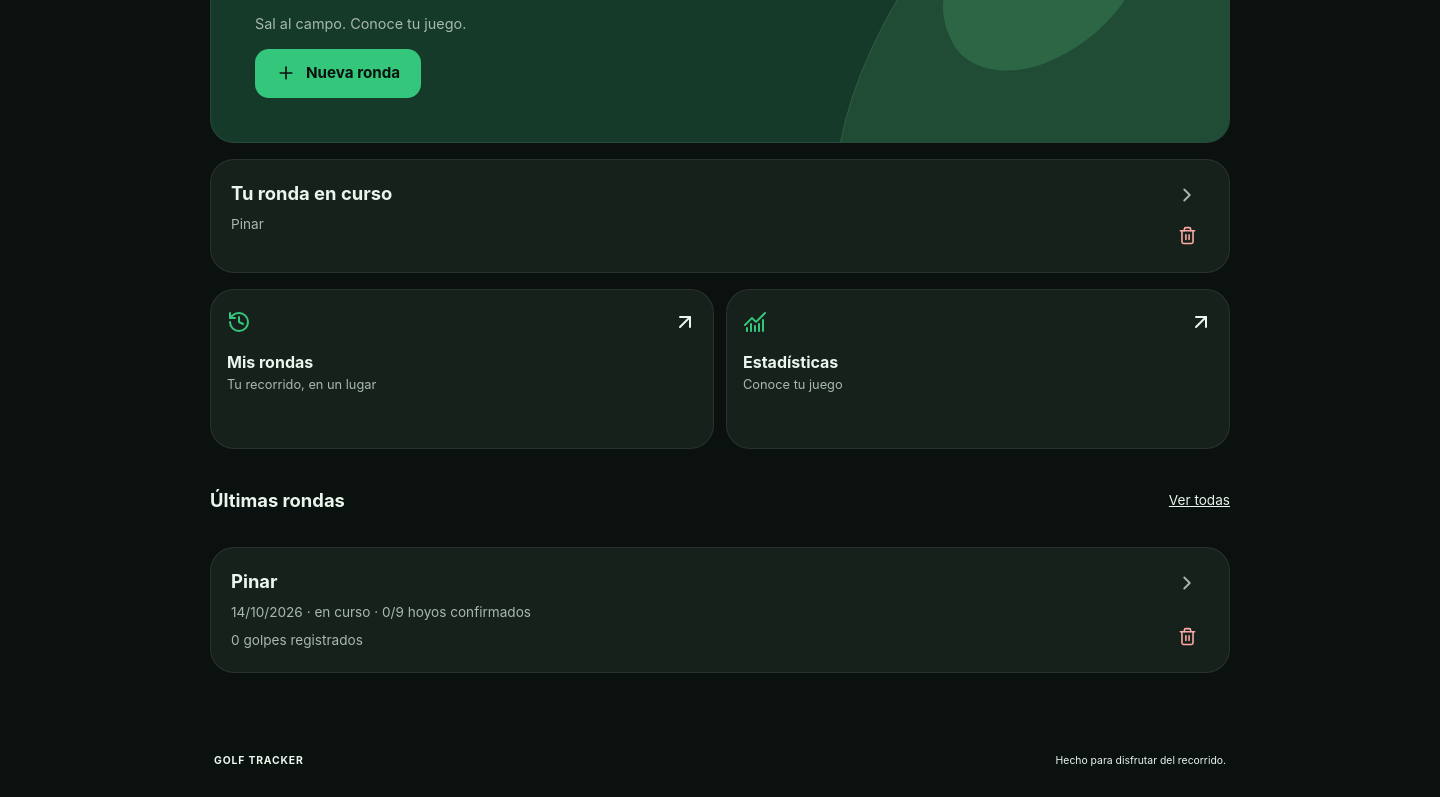
Test: Tarjetas pulsables en / › abre la ronda correcta (finalizada: false)
(page scrolled)
Expected: the link "Ver tarjeta" is not shown
Expected: the button named "Eliminar ronda Pinar" in the row of "hoyos confirmados" does not show "Eliminar ronda", [1165, 614, 1209, 658]
What coordinates should you click on to do the following:
click the heading "Pinar"
I would click on:
 (254, 581)
Its box is [231, 570, 278, 592].
(page scrolled)
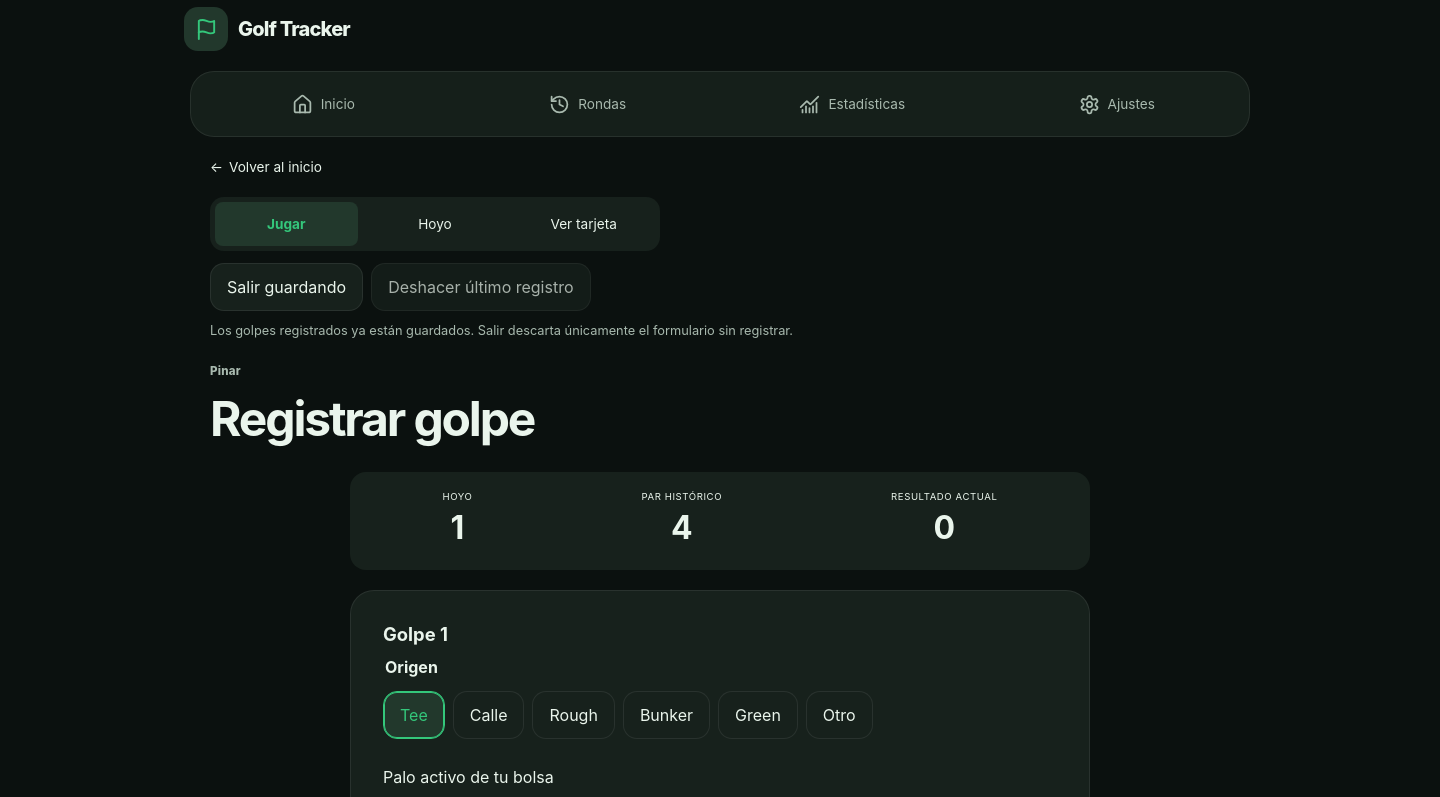
Expected: the heading "Registrar golpe" is shown, [210, 389, 534, 448]
